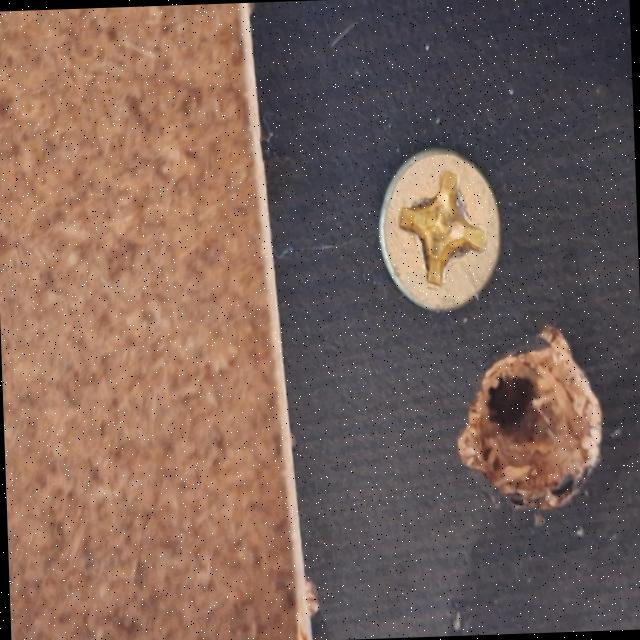Phillips: (360, 139, 518, 325)
